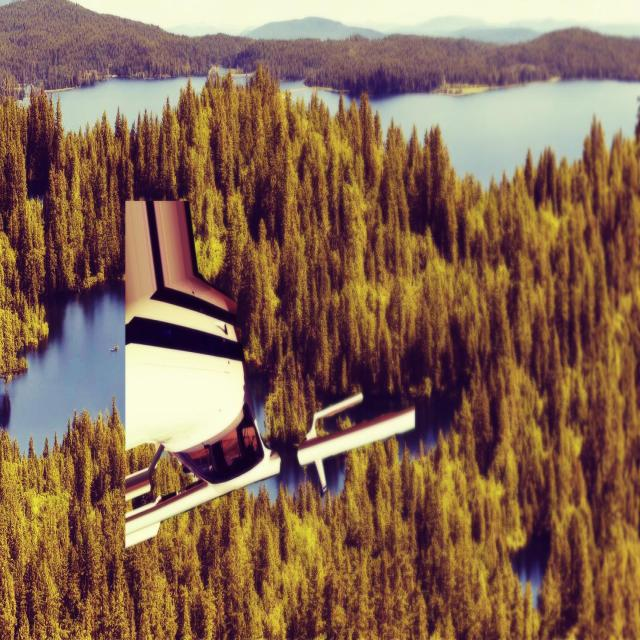airplane: (123, 197, 416, 548)
